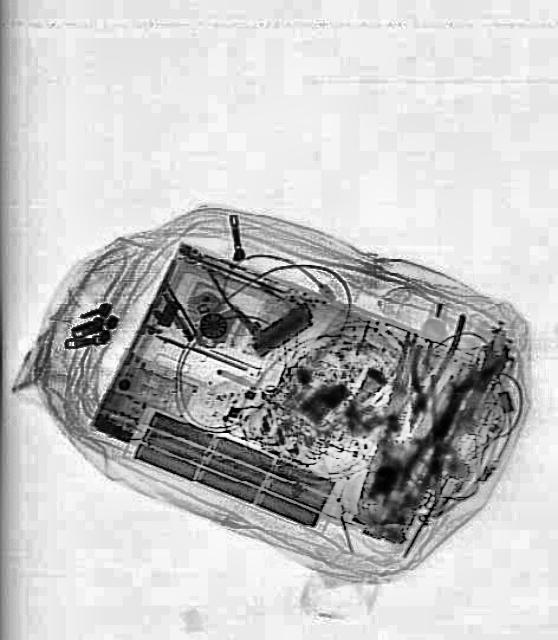Pliers: (334, 336, 474, 542)
